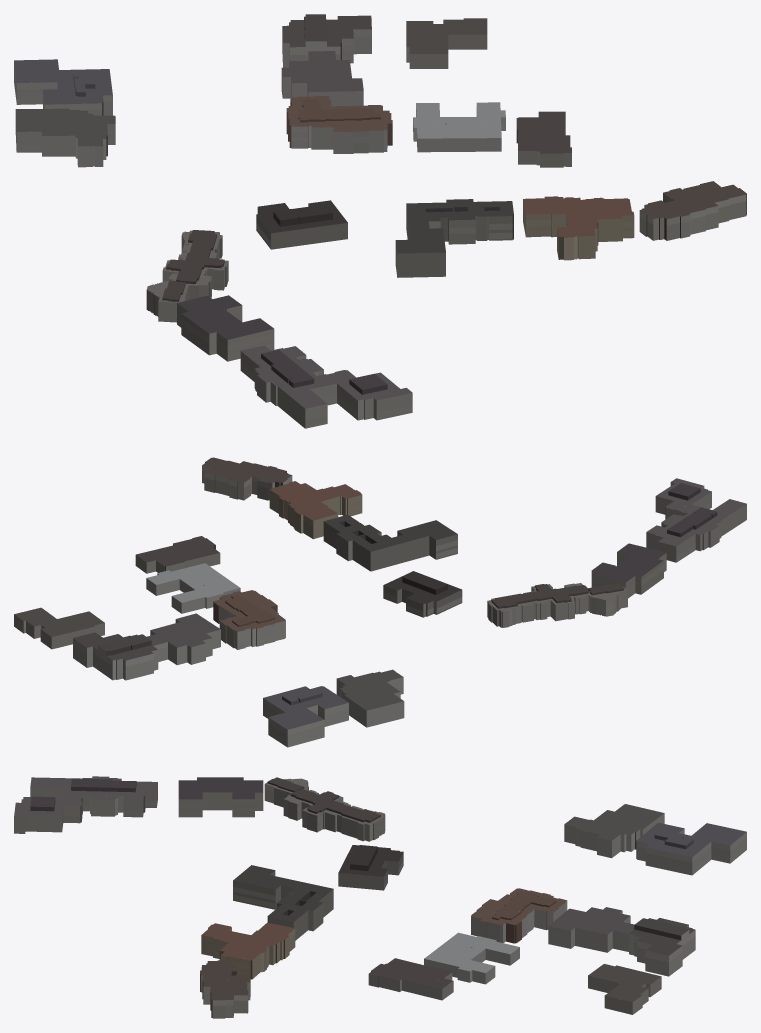
File: t_-5_-4.far.glb
The picture shows the model from 3 angles, top to bottom: view 1: azimuth 30°, elevation 25°; view 2: azimuth 150°, elevation 25°; view 3: azimuth 270°, elevation 25°; orthographic projection. The views are drawn at different scales.
Visible parts, largest first — view 1: opaque; view 2: opaque; view 3: opaque.
Part boxes in pixels (<box>): opaque: <box>14,14,746,428</box>; opaque: <box>14,457,746,747</box>; opaque: <box>14,776,746,1018</box>.
Size of the model in its own units: 189 by 9.87 by 260.
Materials: 1 (1 with a texture image).
